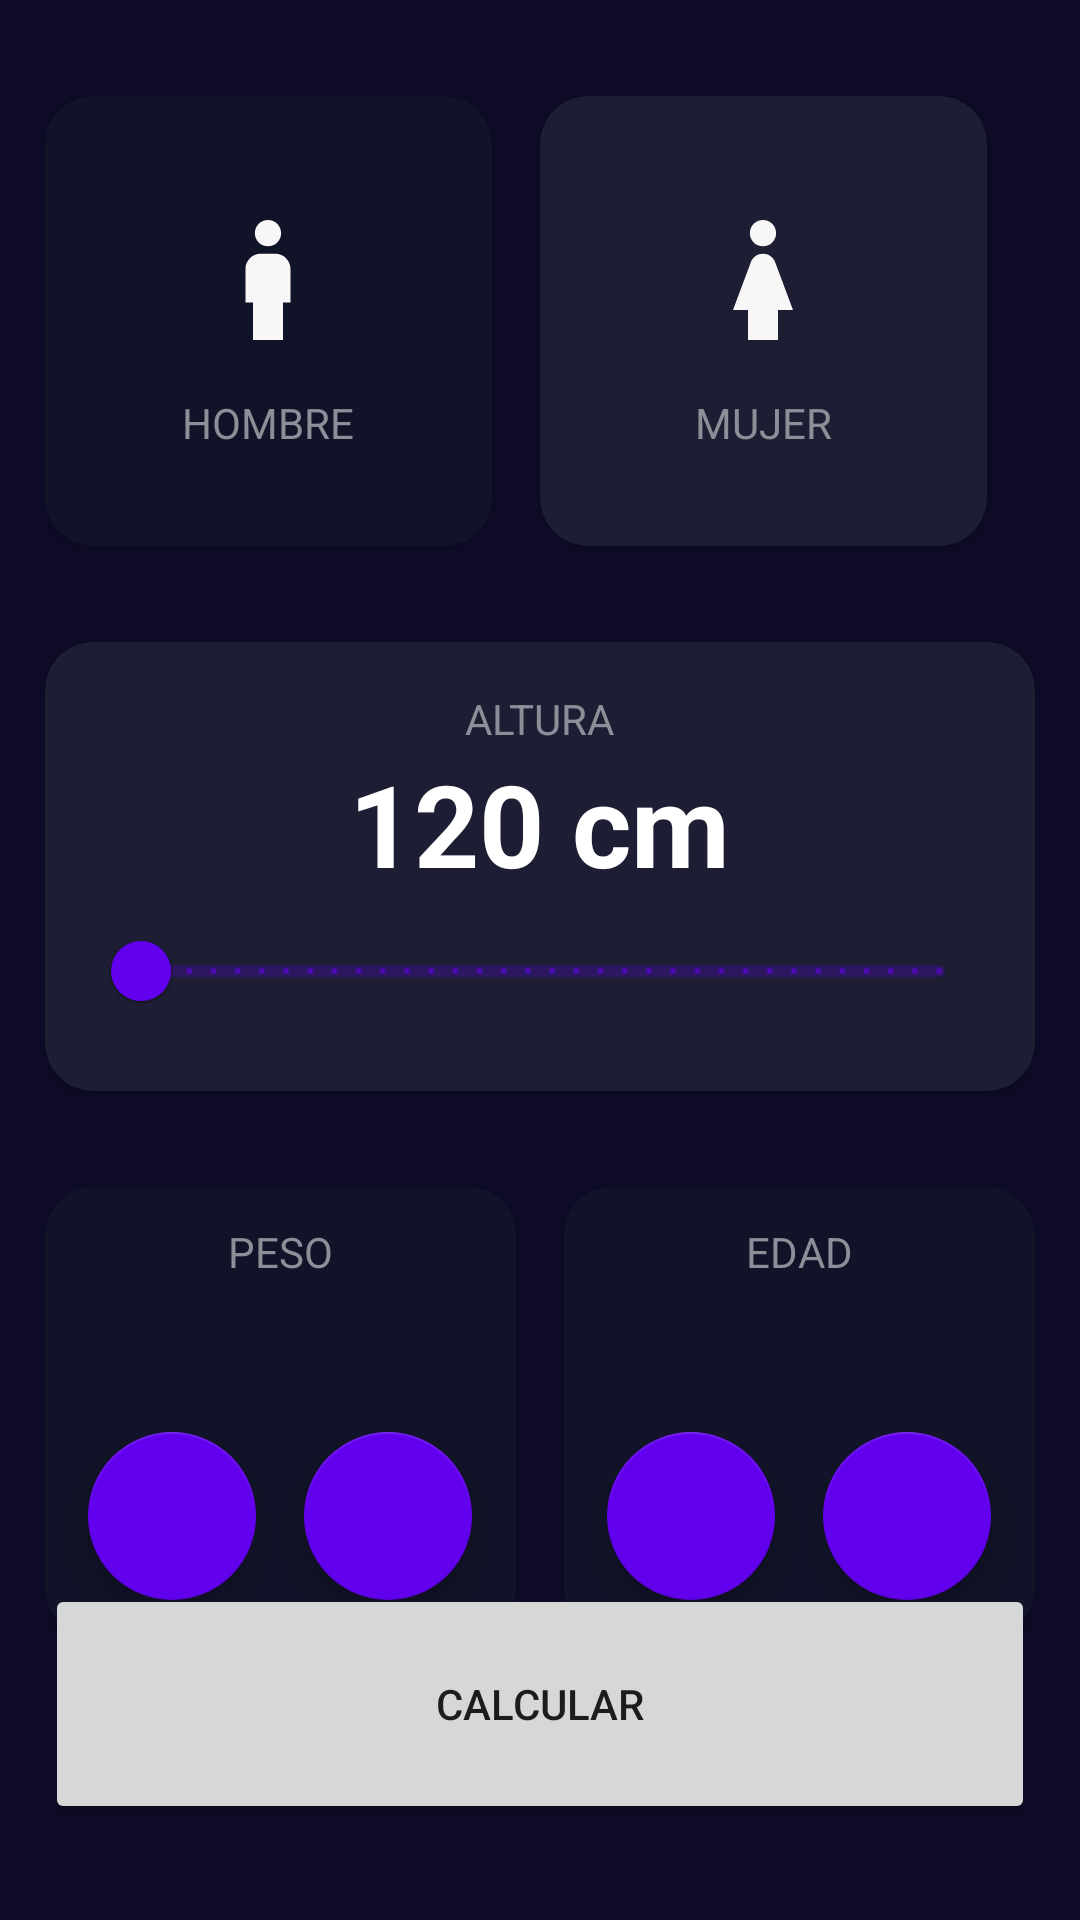

Icons on this 1080 × 1920 Android screen, each with its box as (x1,y1,x2,y2):
boy: (245,220,291,340)
girl: (733,220,793,340)
